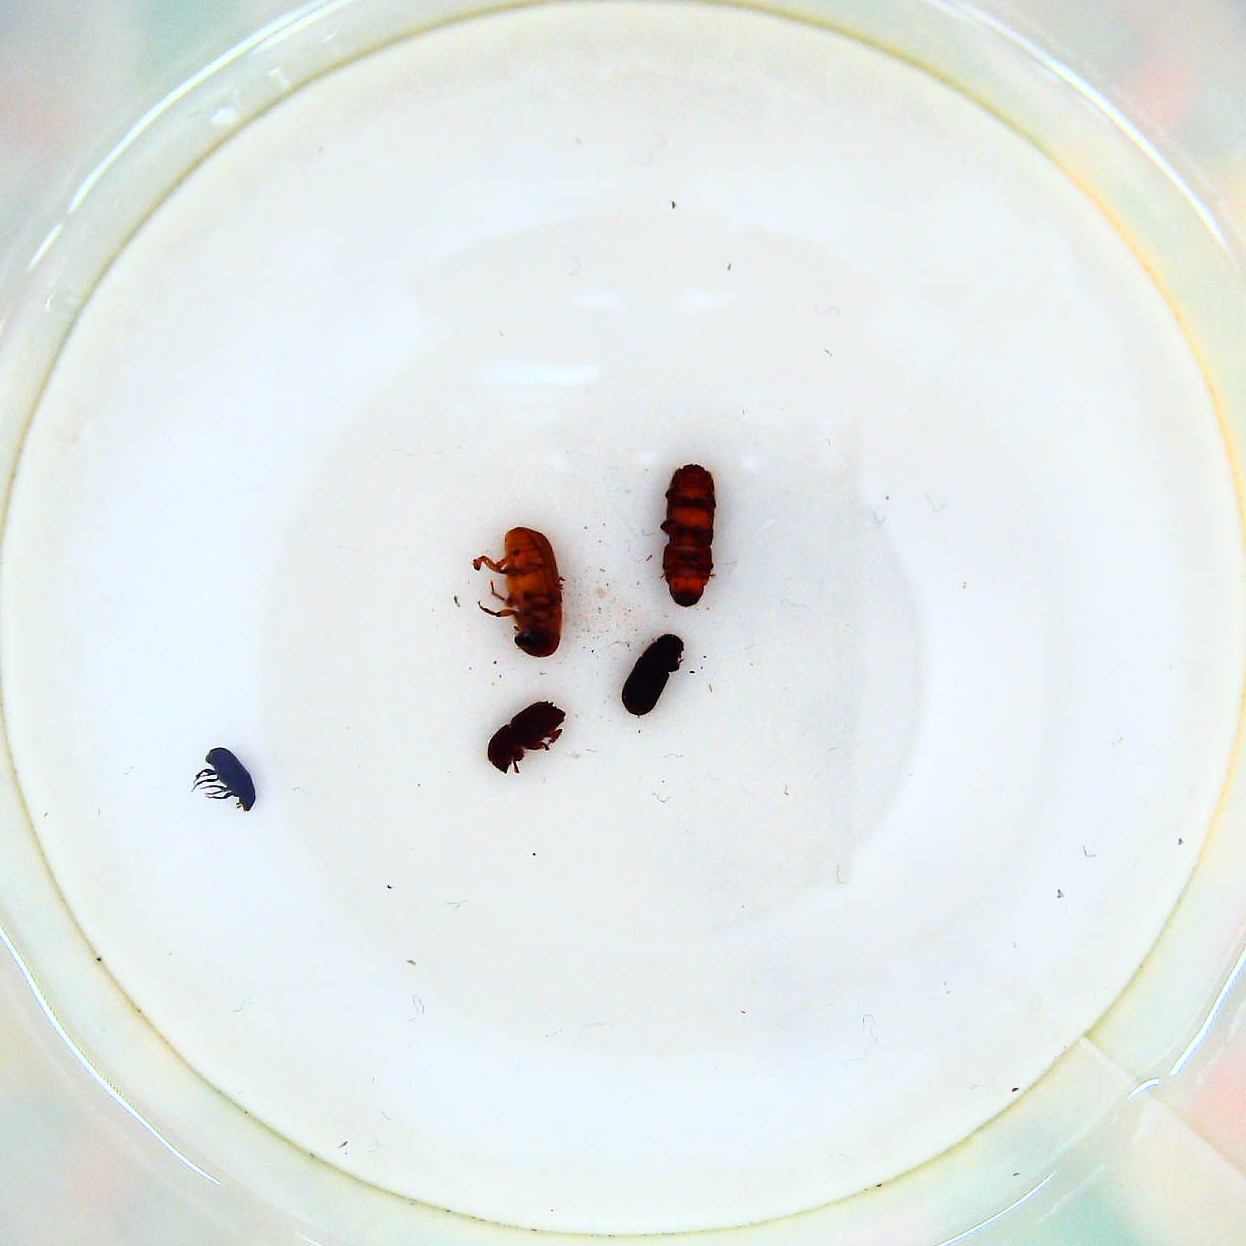Boerner: (658, 455, 728, 606)
Leconte: (470, 526, 575, 665)
armandi: (618, 630, 691, 721)
coleoptera: (189, 741, 262, 814)
linnaeus: (485, 696, 575, 777)
